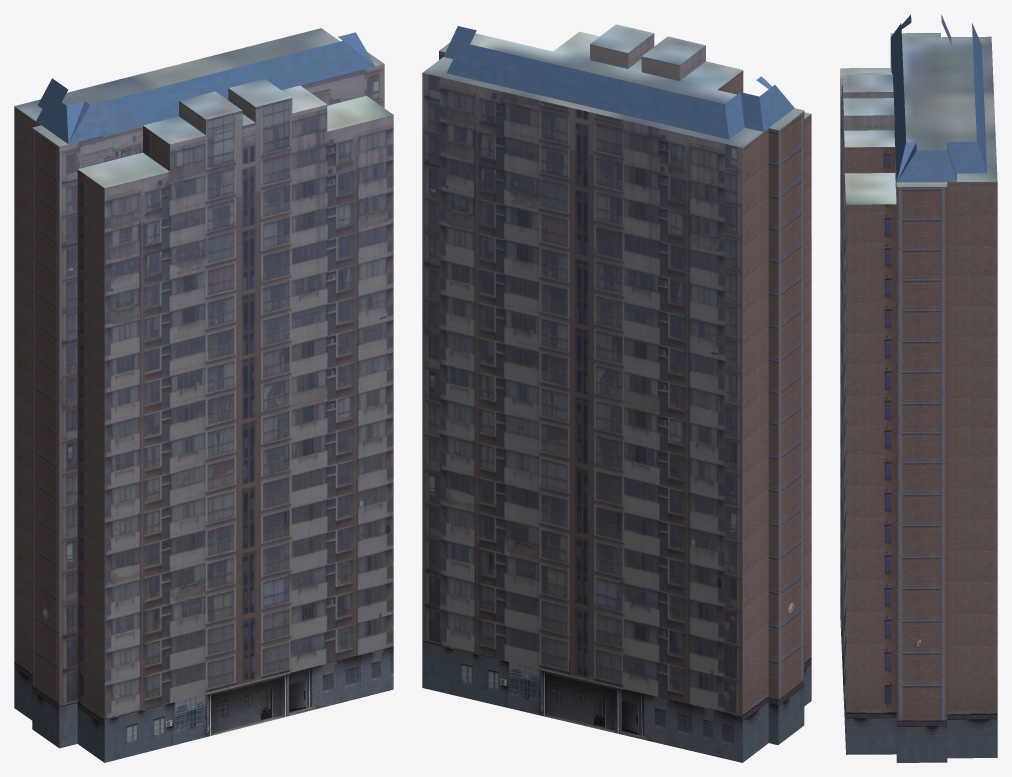
The model's file is jsgy_a3.gltf.
3 views of the same model, side by side, from view 1: azimuth 30°, elevation 25°; view 2: azimuth 150°, elevation 25°; view 3: azimuth 270°, elevation 25° (orthographic). The views are drawn at different scales.
Parts seen in each view (by area): view 1: Model#9; view 2: Model#9; view 3: Model#9.
Part boxes in pixels (x1,y1,x2,y2): Model#9: (14, 28, 393, 762); Model#9: (422, 24, 811, 762); Model#9: (840, 14, 997, 762).
Bounding box in the file's own units: 0.0361 × 0.066 × 0.0156.
Materials: 3 (3 with a texture image).
